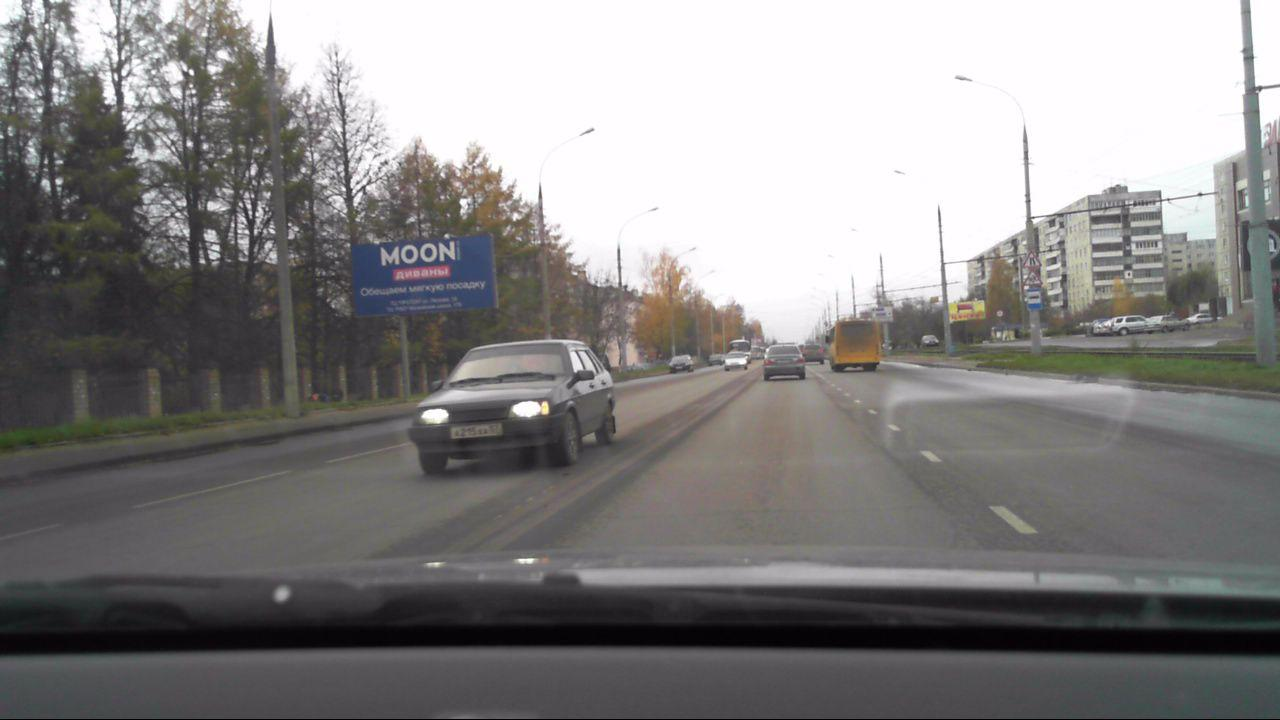1_20_2: (1022, 251, 1042, 268)
1_23: (1022, 269, 1044, 286)
5_16: (1025, 288, 1043, 308)
